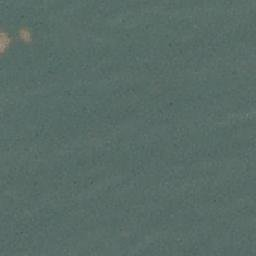debris: (1, 33, 11, 54), (19, 27, 30, 44)
